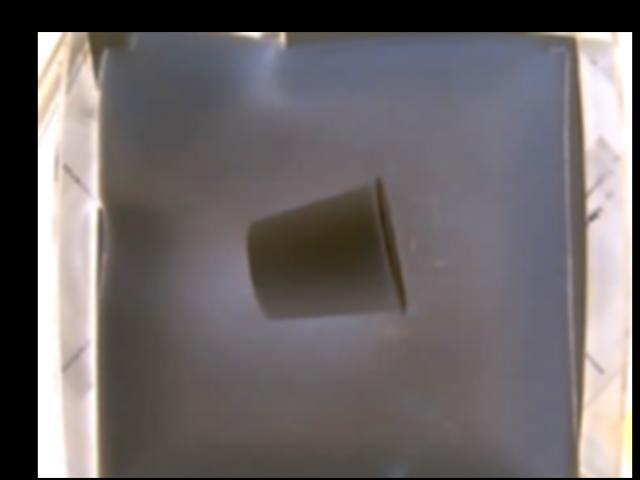Cup: (245, 173, 408, 322)
